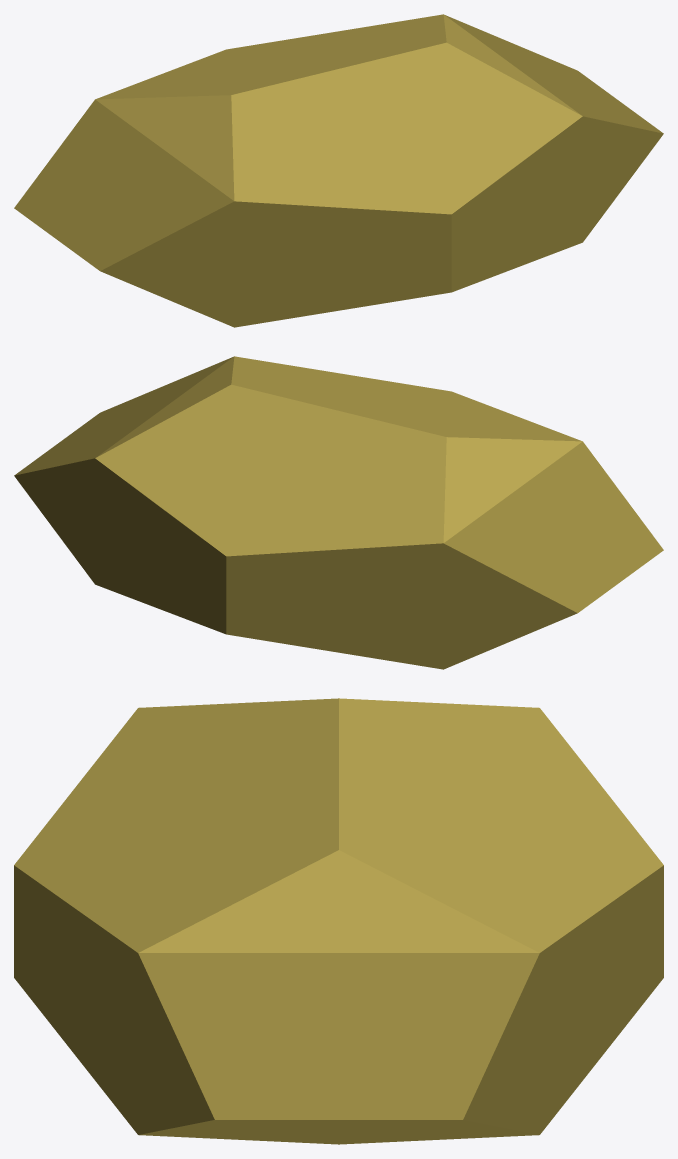
File: biome-orchard-hill.glb
The picture shows the model from 3 angles, top to bottom: view 1: azimuth 30°, elevation 25°; view 2: azimuth 150°, elevation 25°; view 3: azimuth 270°, elevation 25°; orthographic projection. The views are drawn at different scales.
Bounding box in the file's own units: 4.86 × 1.68 × 3.36.
